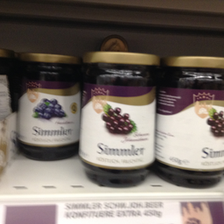jam: (78, 51, 161, 187), (155, 55, 224, 190), (16, 52, 79, 162)
